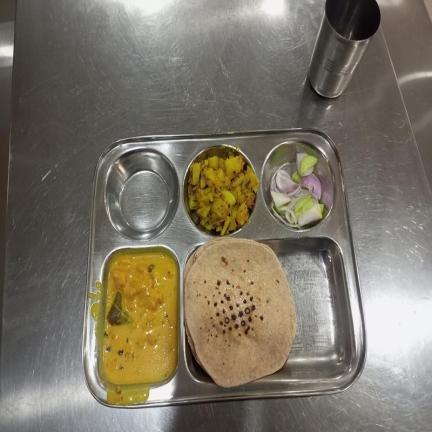Curry: (103, 252, 178, 386)
Plate: (82, 128, 367, 408)
Roti: (184, 234, 298, 390)
Salad: (268, 151, 326, 229)
Zeera Aalu: (188, 150, 259, 235)
